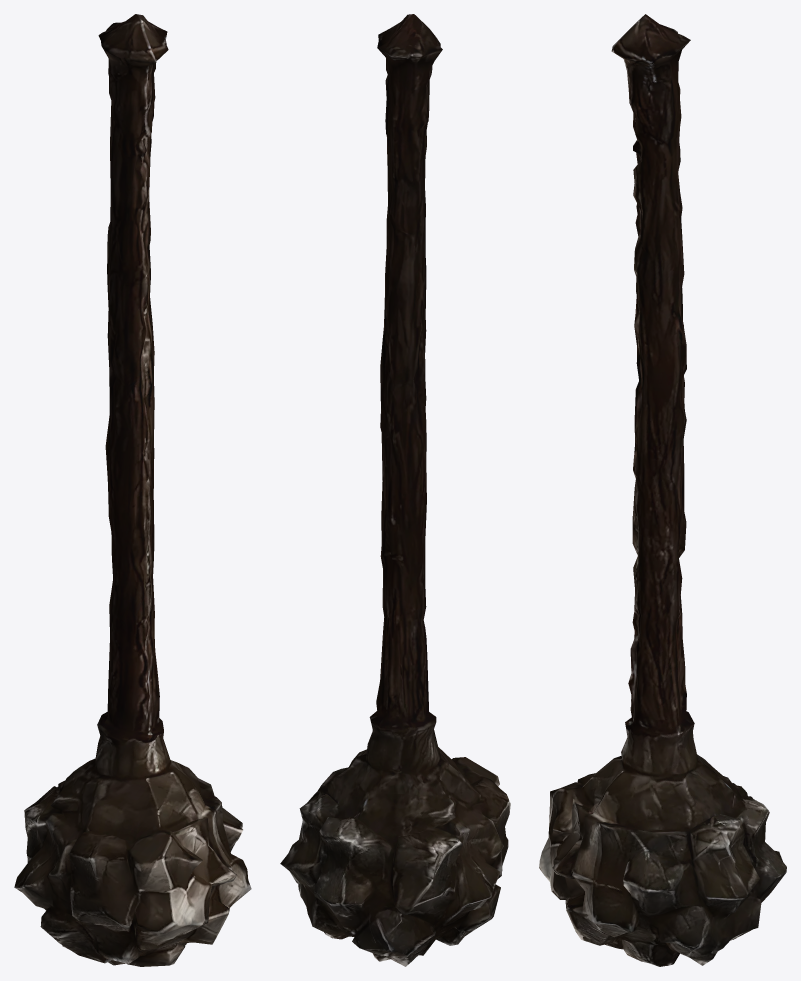
The model's file is hellena_warden_spear.glb.
The picture shows the model from 3 angles, left to right: view 1: azimuth 30°, elevation 25°; view 2: azimuth 150°, elevation 25°; view 3: azimuth 270°, elevation 25°; orthographic projection. The views are drawn at different scales.
Visible parts, largest first — view 1: tripo_node_0b124111-4055-4943-8d15-75f5a9900173; view 2: tripo_node_0b124111-4055-4943-8d15-75f5a9900173; view 3: tripo_node_0b124111-4055-4943-8d15-75f5a9900173.
Part boxes in pixels (box(x1,y1,x2,y2)): tripo_node_0b124111-4055-4943-8d15-75f5a9900173: box(14, 14, 251, 966); tripo_node_0b124111-4055-4943-8d15-75f5a9900173: box(280, 14, 510, 966); tripo_node_0b124111-4055-4943-8d15-75f5a9900173: box(539, 14, 786, 966).
Bounding box in the file's own units: 0.2283 × 1 × 0.2396.
1 material, 1 textured.
